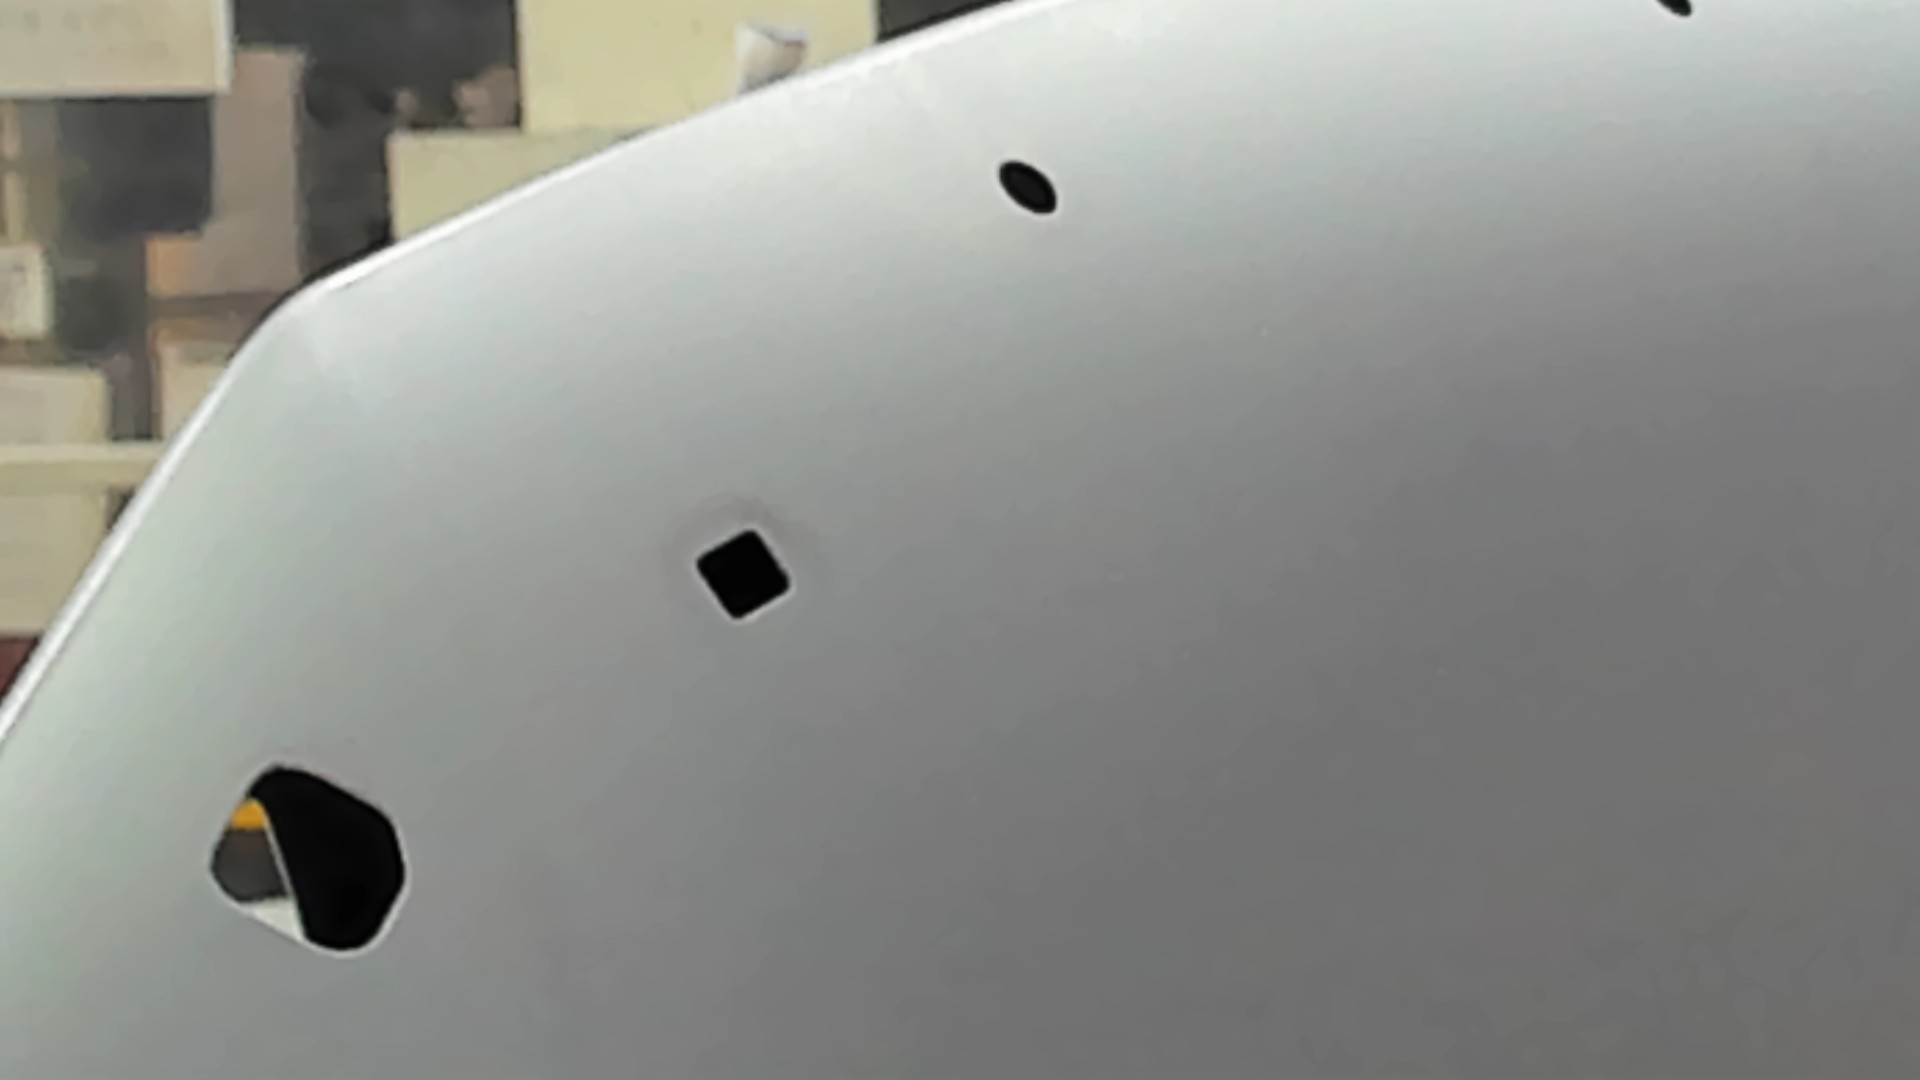chico: (993, 154, 1060, 220), (1647, 1, 1701, 26)
grande: (204, 753, 414, 965)
mediano: (692, 524, 798, 628)
